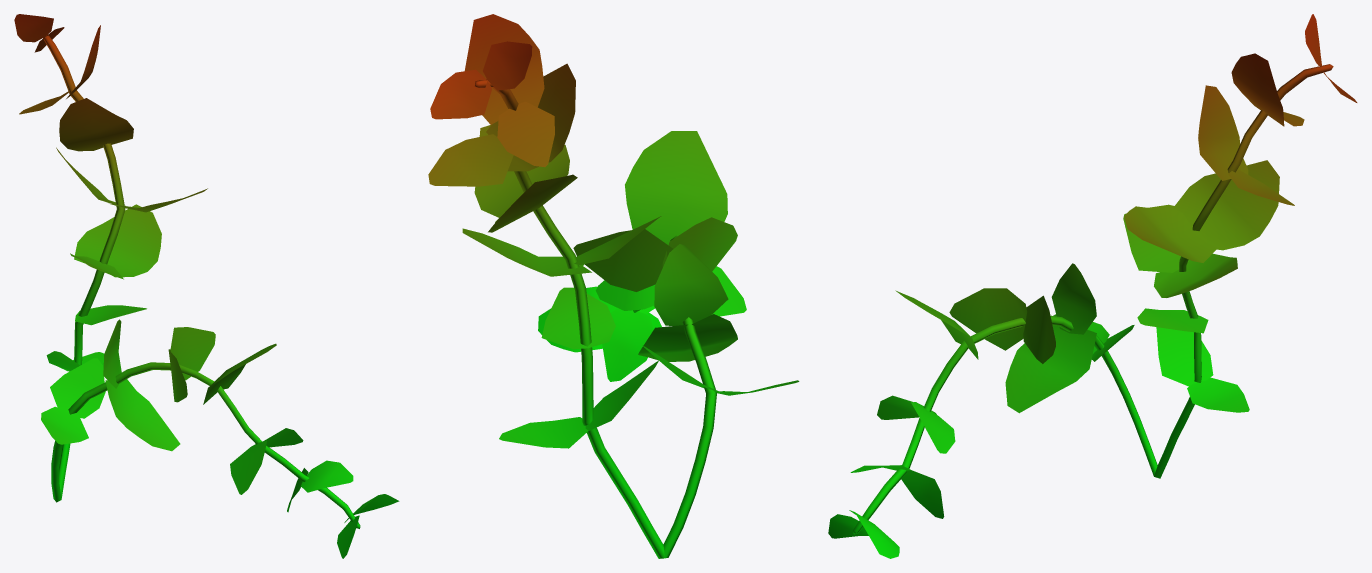
The model's file is Rubber Bush_LOD2_Var10_xffhfekia.fbx.
3 views of the same model, side by side, from view 1: azimuth 30°, elevation 25°; view 2: azimuth 150°, elevation 25°; view 3: azimuth 270°, elevation 25° (orthographic). The views are drawn at different scales.
Visible parts, largest first — view 1: _703e_Var10_LOD2; view 2: _703e_Var10_LOD2; view 3: _703e_Var10_LOD2.
Boxes of the visible parts, left/top/right/bottom form: _703e_Var10_LOD2: left=14, top=14, right=399, bottom=558; _703e_Var10_LOD2: left=428, top=14, right=799, bottom=558; _703e_Var10_LOD2: left=828, top=14, right=1357, bottom=558.
Bounding box in the file's own units: 24.11 × 36.44 × 36.43.
